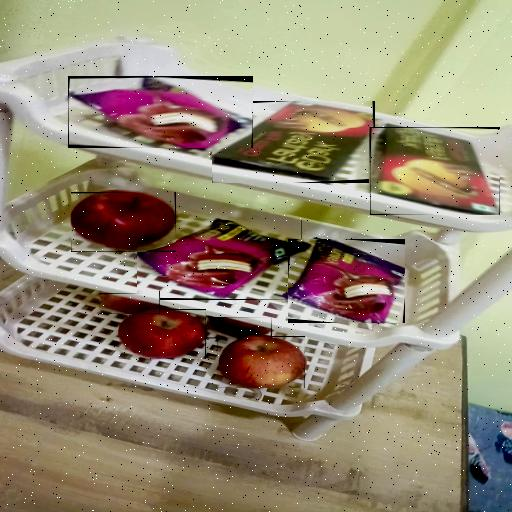Apple: (71, 192, 176, 252), (217, 336, 305, 388), (119, 309, 206, 359), (207, 318, 272, 340), (99, 293, 160, 314)
Choco Fills: (212, 101, 375, 183), (370, 127, 500, 215)
Choco Pie: (68, 76, 253, 148), (137, 220, 302, 300), (286, 239, 404, 323)
